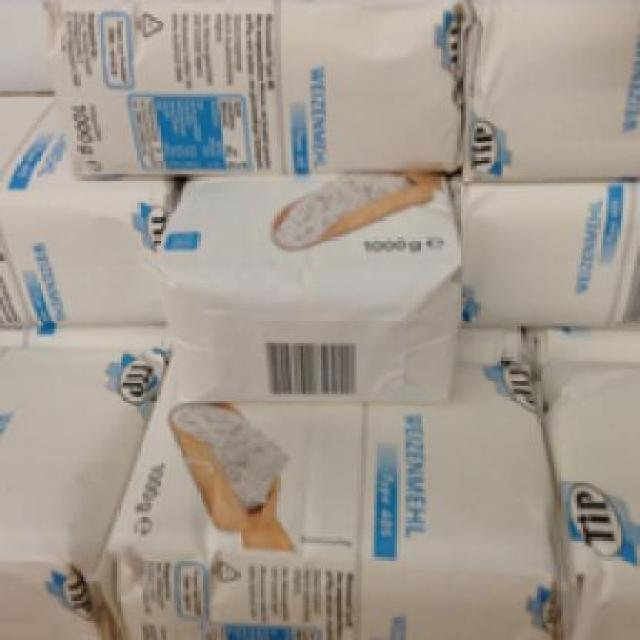Flour: (94, 348, 557, 638), (37, 0, 466, 177), (146, 168, 463, 404)
